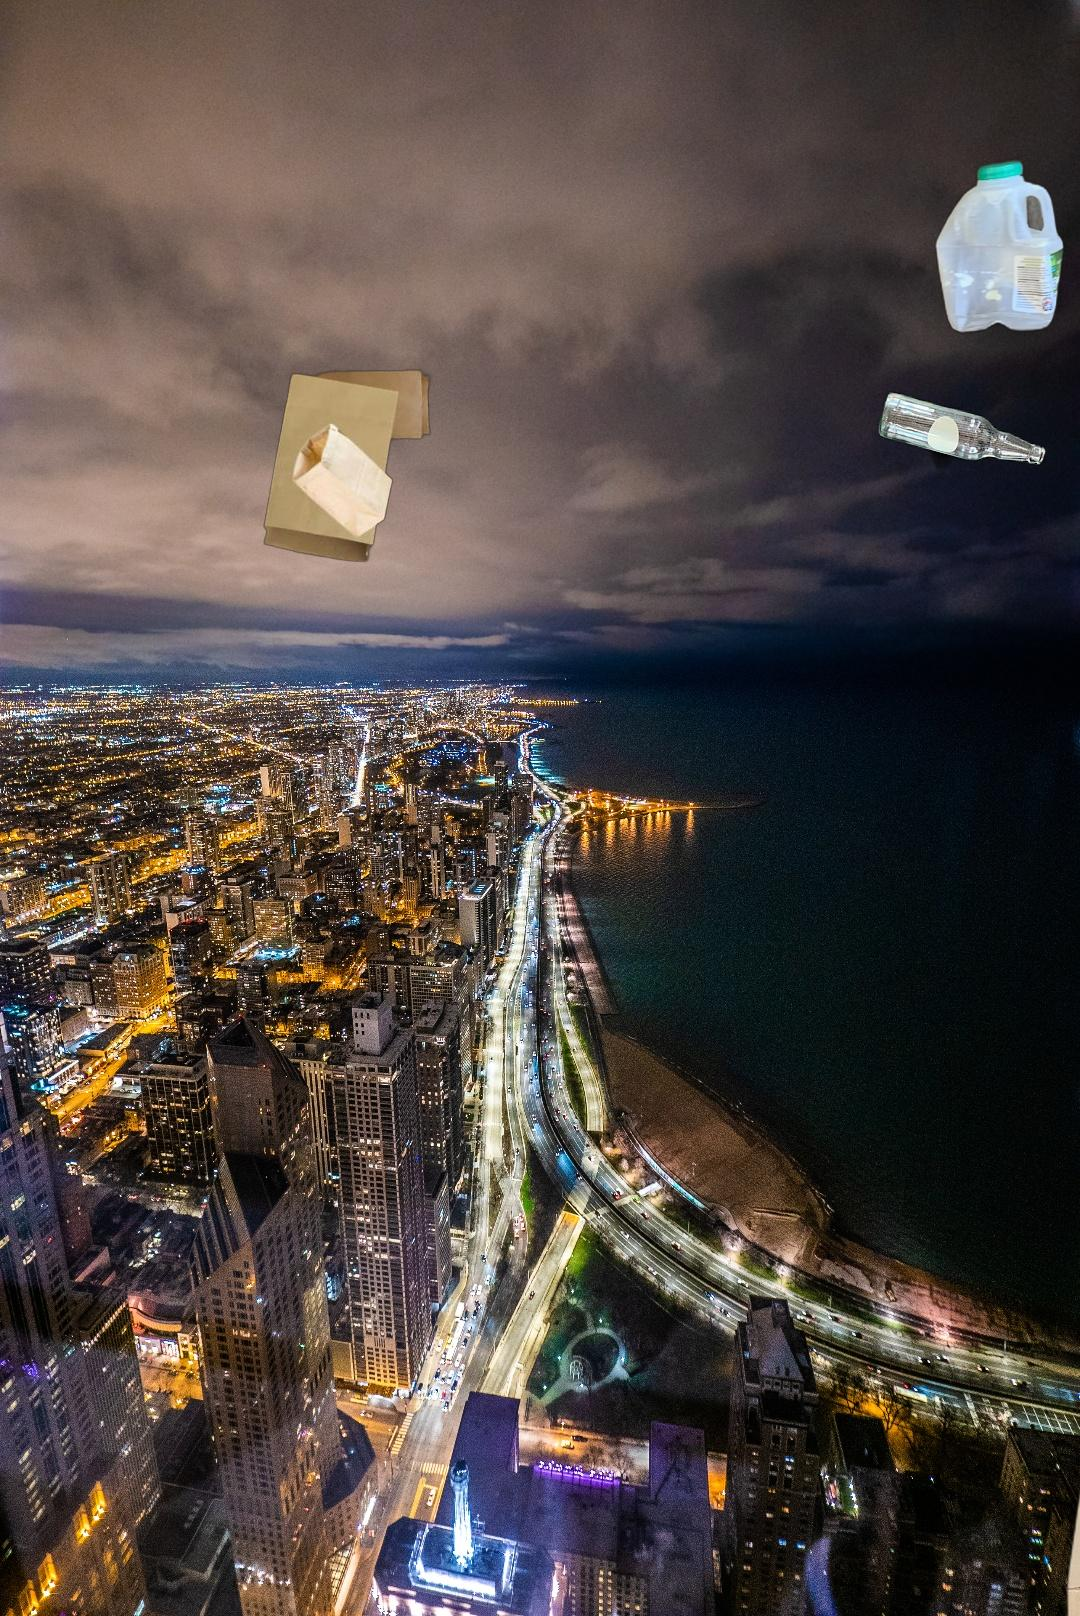glass: (873, 384, 1080, 825)
paper-bag: (262, 366, 436, 565)
plastic-bottles: (931, 154, 1068, 339)
trashbox-cardboard: (1062, 1438, 1080, 1616)
